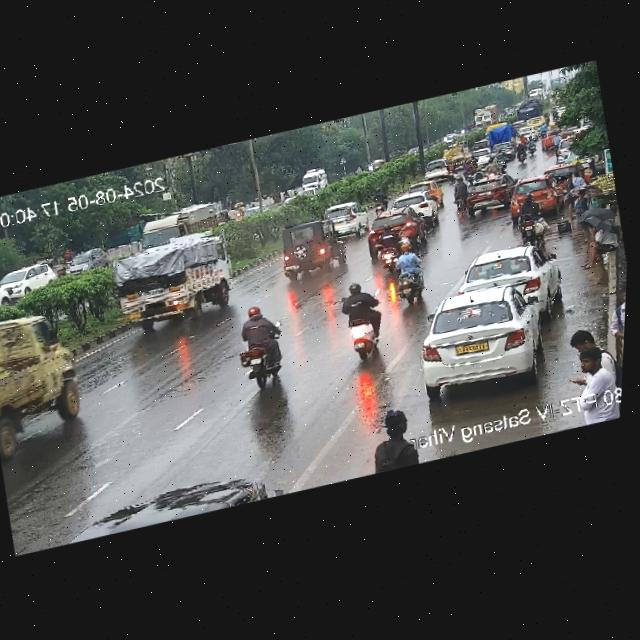car: (407, 274, 572, 402), (66, 468, 277, 542), (449, 239, 560, 318), (278, 216, 348, 280), (362, 208, 432, 256), (0, 259, 59, 308), (462, 170, 516, 217), (505, 172, 562, 215), (384, 190, 445, 226), (320, 200, 367, 238), (64, 246, 104, 274), (420, 158, 457, 184), (543, 160, 582, 179), (552, 136, 578, 164), (539, 128, 567, 149), (492, 140, 517, 161), (427, 180, 446, 207), (516, 126, 539, 143), (471, 147, 493, 164), (0, 279, 11, 310), (471, 139, 491, 151)
motorcycle: (230, 300, 293, 392), (335, 277, 390, 362), (385, 239, 431, 306), (512, 192, 548, 243), (371, 222, 405, 264), (451, 175, 471, 217), (364, 186, 391, 216), (443, 140, 472, 166), (369, 184, 390, 213), (484, 155, 500, 176), (464, 159, 477, 183), (470, 165, 486, 183), (496, 148, 508, 171), (471, 154, 479, 169)
person: (361, 410, 430, 475), (564, 350, 614, 405), (574, 219, 624, 269), (608, 286, 626, 416), (567, 186, 604, 244), (568, 322, 604, 354)
truck: (100, 223, 244, 335), (0, 303, 87, 445), (133, 197, 222, 252), (300, 164, 330, 192)
